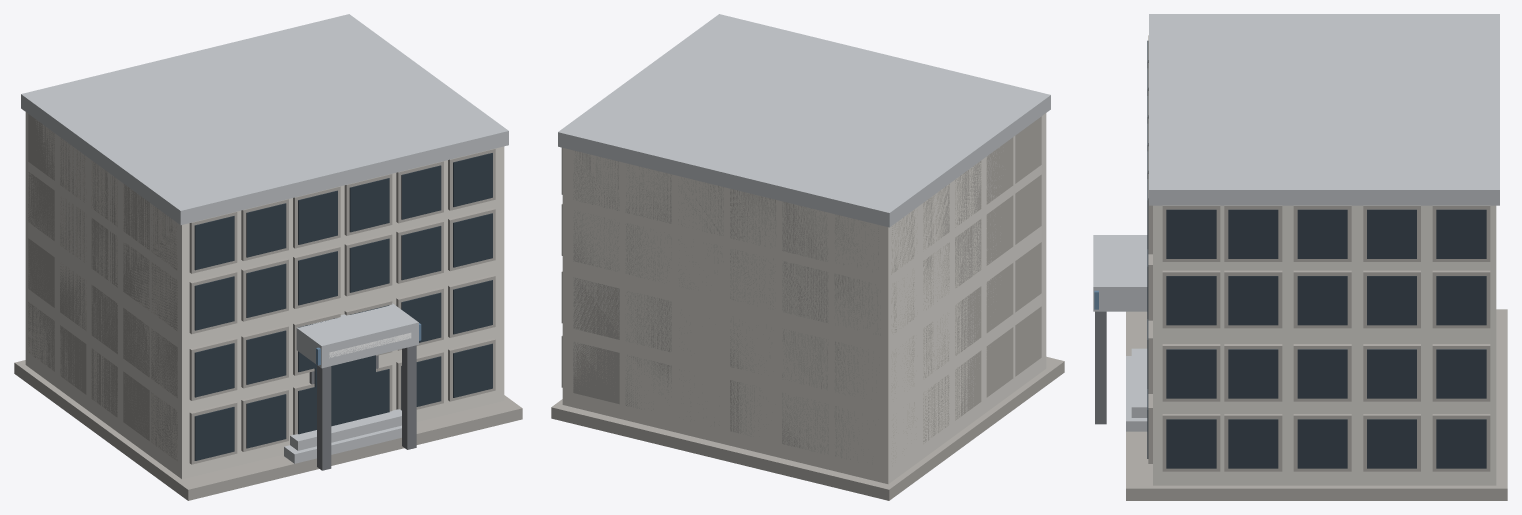
The model's file is service_police.glb.
3 views of the same model, side by side, from view 1: azimuth 30°, elevation 25°; view 2: azimuth 150°, elevation 25°; view 3: azimuth 270°, elevation 25° (orthographic). The views are drawn at different scales.
Visible parts, largest first — view 1: police; view 2: police; view 3: police.
Part boxes in pixels (x1=…): police: x1=14, y1=14, x2=522, y2=500; police: x1=551, y1=14, x2=1064, y2=500; police: x1=1093, y1=14, x2=1507, y2=500.
Size of the model in its own units: 11 by 8.85 by 10.75.
Materials: 2 (1 with a texture image).
